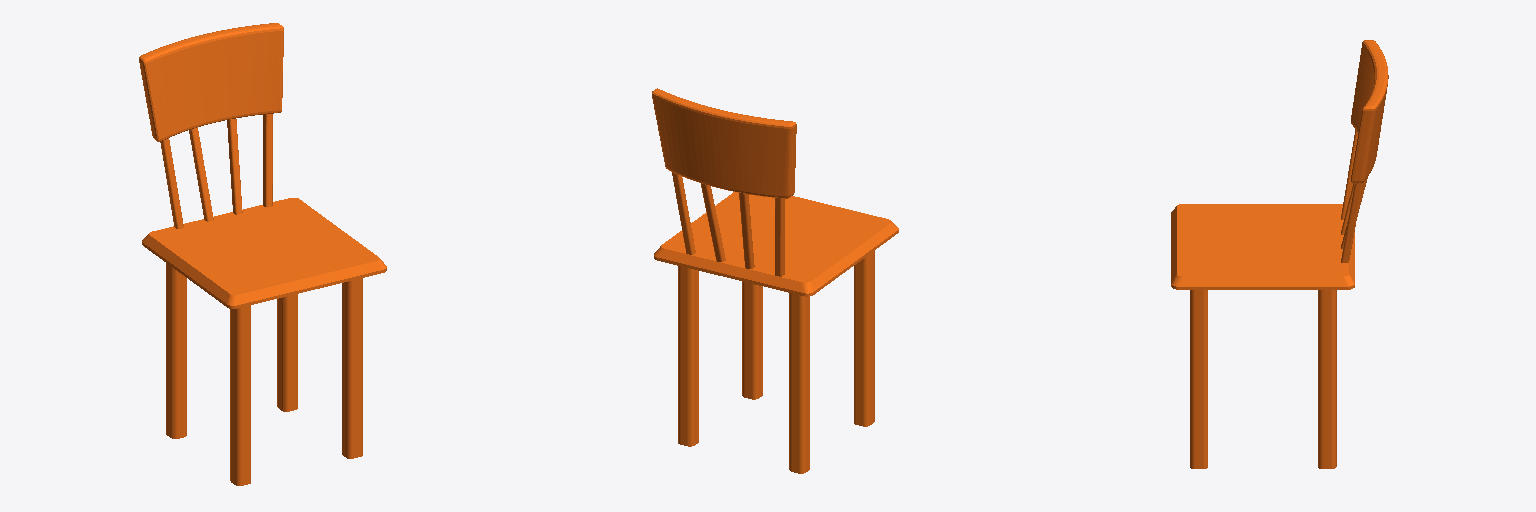
The model's file is chair04.obj.
3 views of the same model, side by side, from view 1: azimuth 30°, elevation 25°; view 2: azimuth 150°, elevation 25°; view 3: azimuth 270°, elevation 25° (orthographic).
Parts seen in each view (by area): view 1: Object.1; view 2: Object.1; view 3: Object.1.
Boxes of the visible parts, <box> form: Object.1: <box>139,23,386,485</box>; Object.1: <box>652,88,898,473</box>; Object.1: <box>1171,40,1388,468</box>.
Bounding box in the file's own units: 451 × 990 × 534.